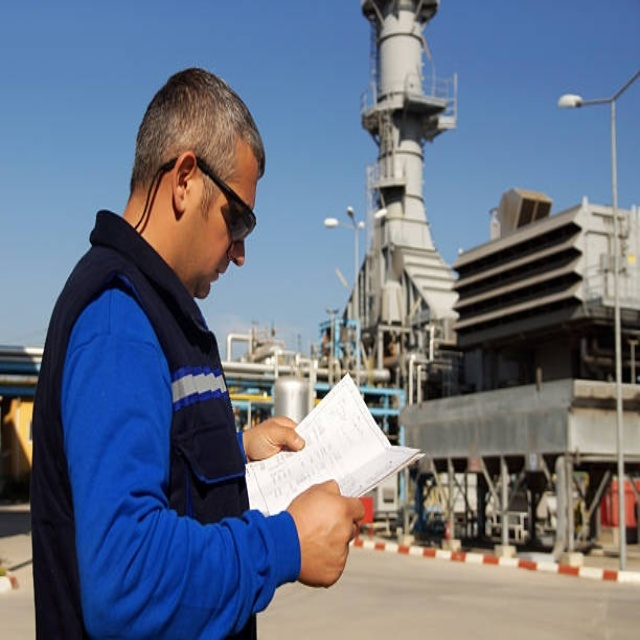Gafas: (157, 153, 257, 245)
Sin_guantes: (286, 480, 369, 589), (243, 413, 307, 464)
Sin_mascara: (197, 261, 234, 300)
